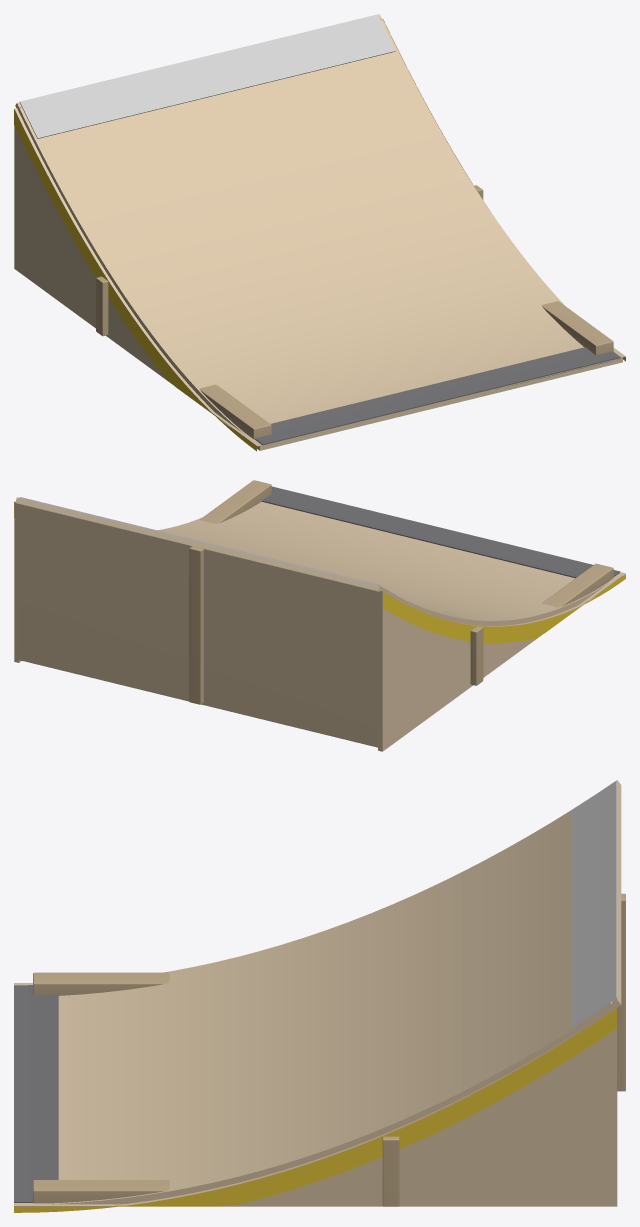
File: ramp_kicker.glb
The picture shows the model from 3 angles, top to bottom: view 1: azimuth 30°, elevation 25°; view 2: azimuth 150°, elevation 25°; view 3: azimuth 270°, elevation 25°; orthographic projection. The views are drawn at different scales.
Visible parts, largest first — view 1: SM_ramp_kicker; view 2: SM_ramp_kicker; view 3: SM_ramp_kicker.
Part boxes in pixels (left/top/right/bottom): SM_ramp_kicker: left=14, top=14, right=625, bottom=451; SM_ramp_kicker: left=14, top=480, right=625, bottom=751; SM_ramp_kicker: left=14, top=780, right=625, bottom=1212.
Size of the model in its own units: 1.45 by 0.6212 by 1.62.
